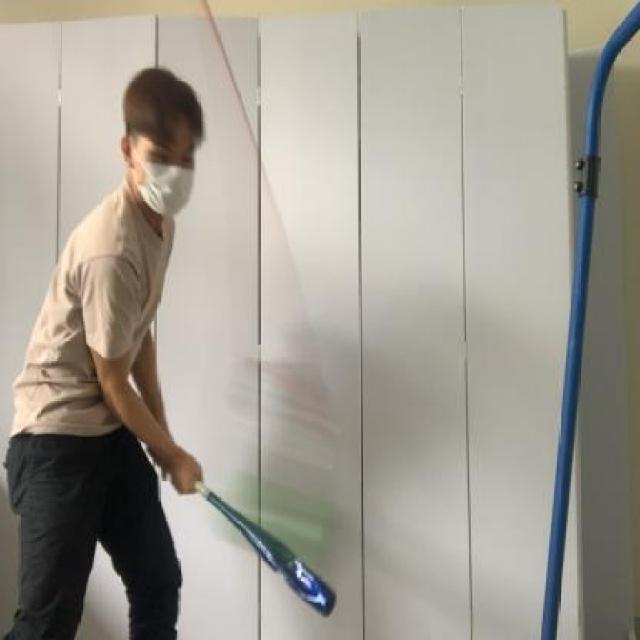baseball: (208, 465, 332, 558)
